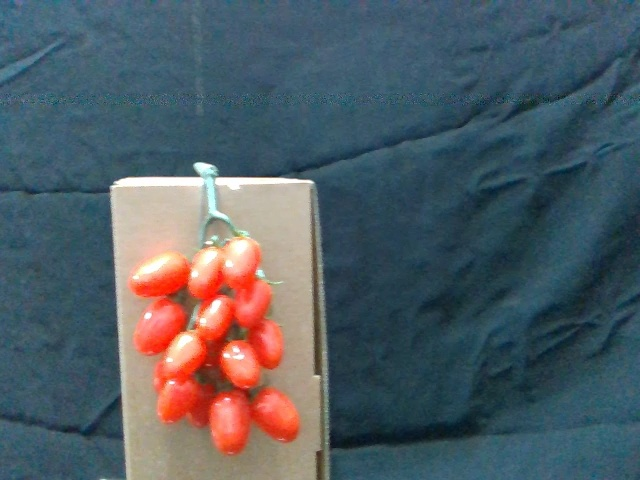tomato: (251, 387, 305, 446), (210, 389, 251, 457), (133, 253, 191, 298), (137, 301, 185, 355), (163, 331, 211, 380), (218, 338, 263, 388), (156, 377, 200, 426), (223, 236, 264, 288), (251, 318, 289, 370), (198, 296, 239, 344), (190, 247, 224, 301), (236, 284, 274, 327)
